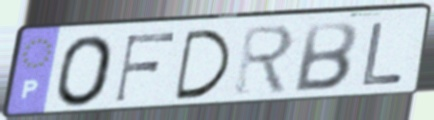B: (290, 20, 360, 94)
D: (172, 27, 234, 102)
F: (112, 30, 179, 105)
L: (359, 20, 406, 89)
O: (54, 33, 117, 109)
R: (232, 23, 297, 97)
